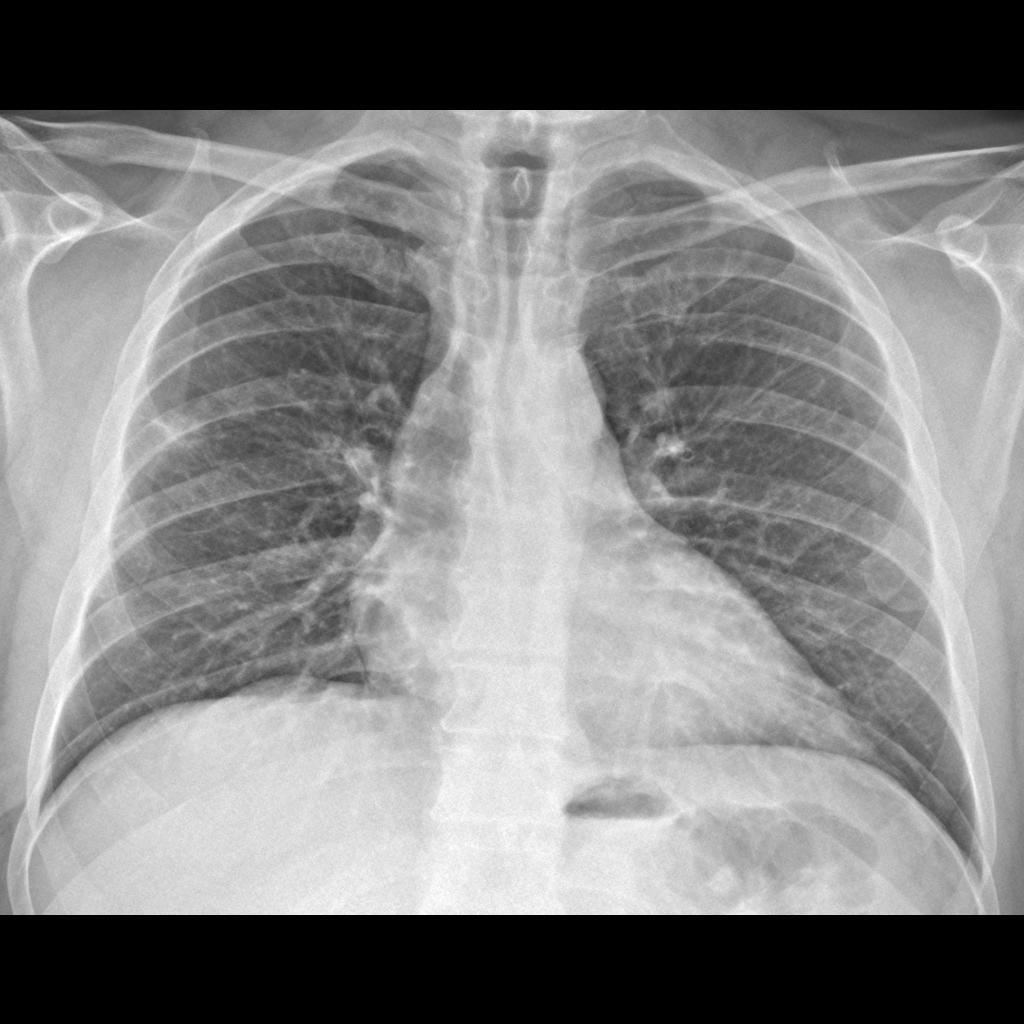Nodule: (146, 397, 213, 460)
